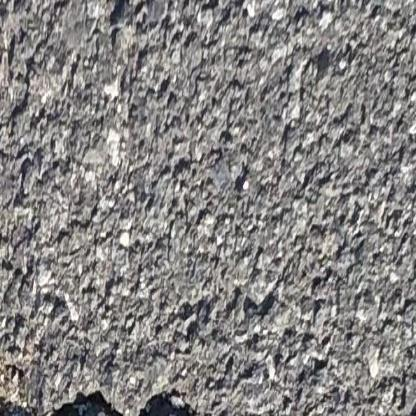Cracks: (0, 353, 220, 416)
